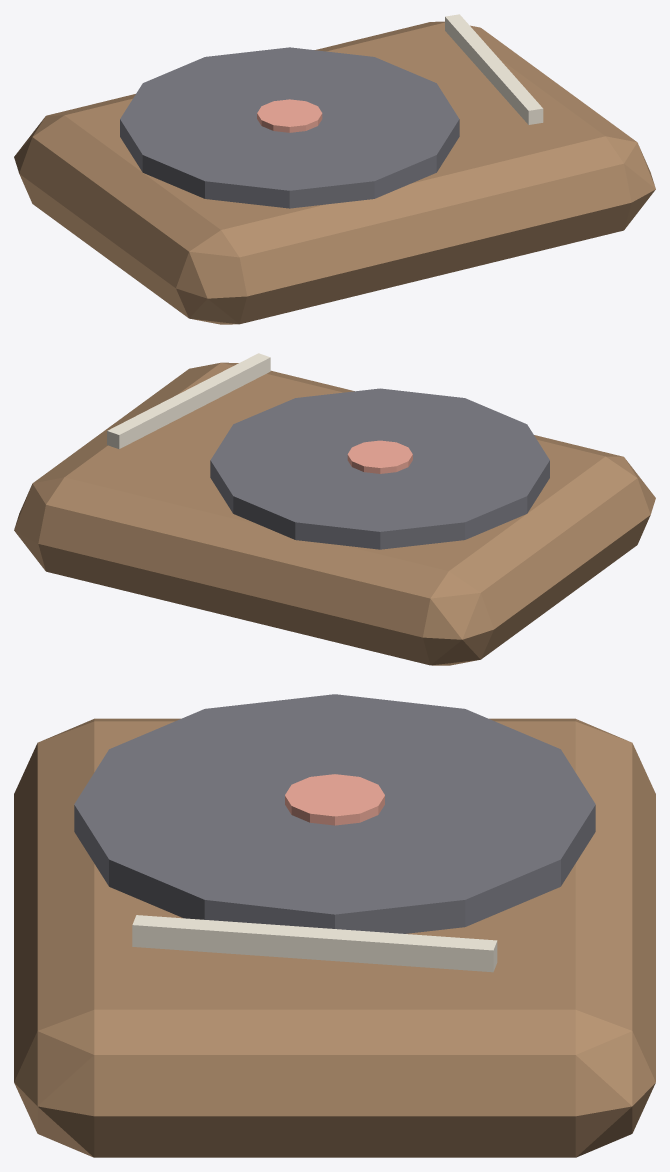
The model's file is cozy-home-interiors-record-player-7c3ae340.glb.
3 views of the same model, one above another, from view 1: azimuth 30°, elevation 25°; view 2: azimuth 150°, elevation 25°; view 3: azimuth 270°, elevation 25° (orthographic). The views are drawn at different scales.
Visible parts, largest first — view 1: record-player; view 2: record-player; view 3: record-player.
Part boxes in pixels (bbox=[...]): record-player: bbox=[14, 14, 655, 324]; record-player: bbox=[14, 353, 655, 665]; record-player: bbox=[14, 694, 655, 1157].
Bounding box in the file's own units: 0.42 × 0.106 × 0.32.
